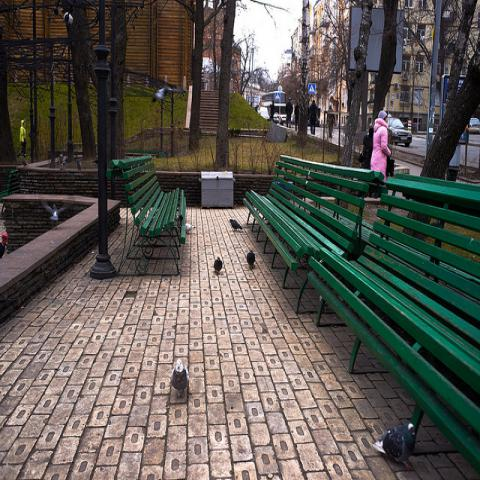bus: (260, 90, 286, 122)
car: (387, 118, 414, 148), (468, 117, 479, 134), (272, 116, 284, 126)
